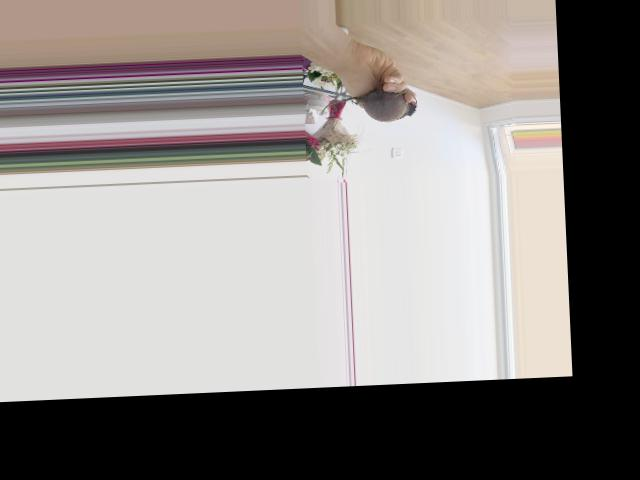beet: (320, 86, 418, 124)
